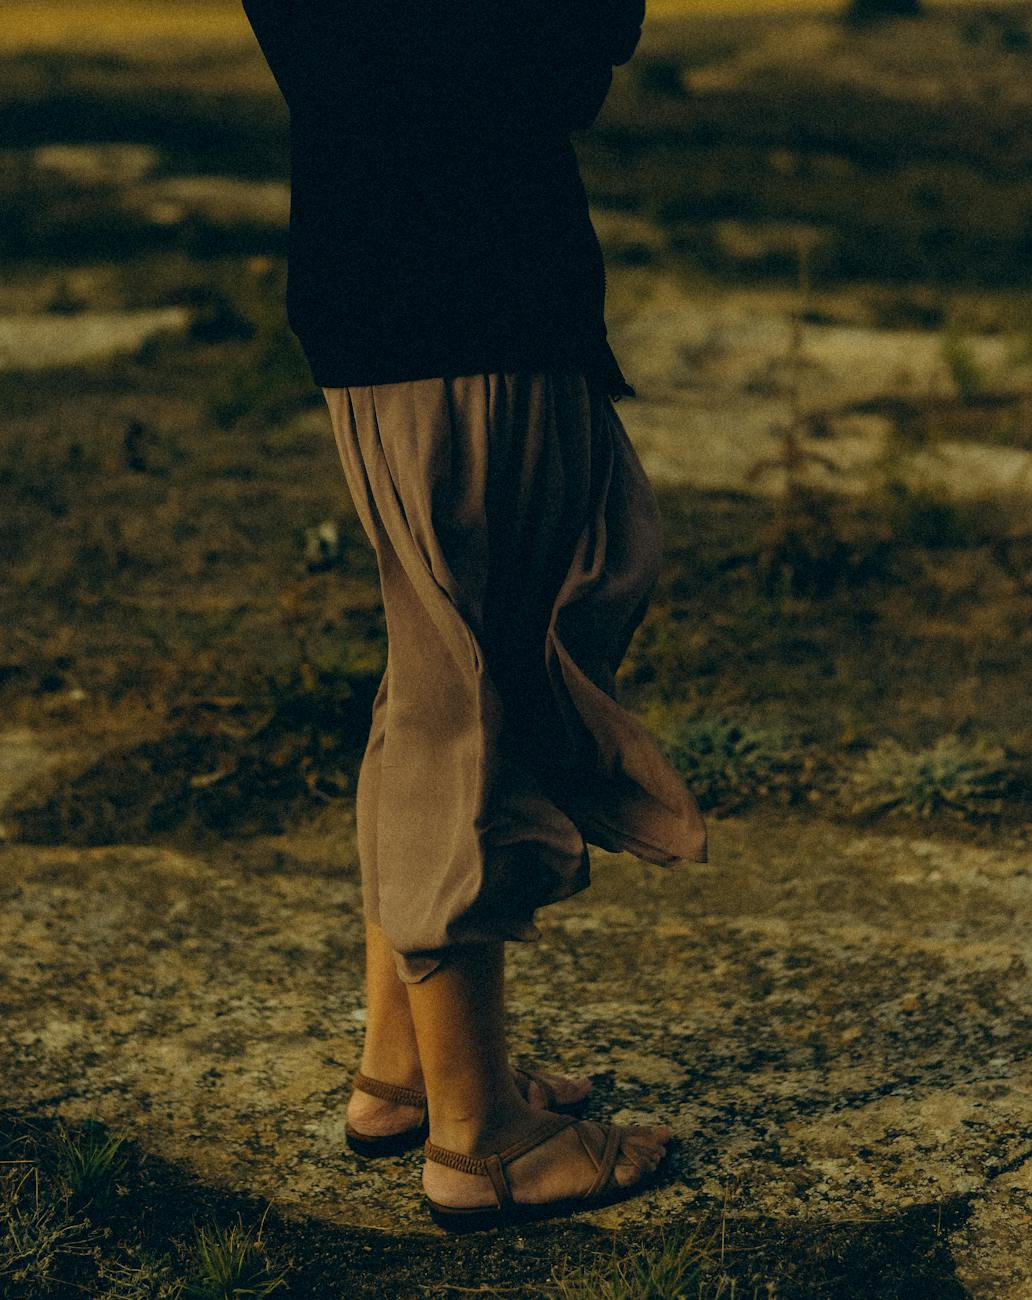opened_foot: (329, 1052, 622, 1143), (407, 1130, 687, 1206)
